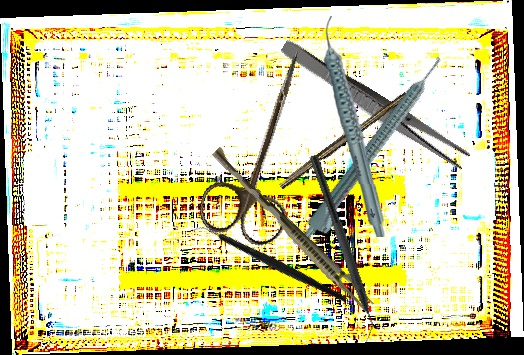Chopper: (188, 182, 348, 346), (296, 153, 386, 347)
Dressing Forceps: (276, 37, 472, 173)
Handpiece: (296, 53, 455, 251), (322, 14, 388, 239)
Iris Scissors: (193, 35, 336, 252)
Scalpel Handle: (277, 88, 409, 192)
Tissue Forceps: (205, 146, 379, 314)
